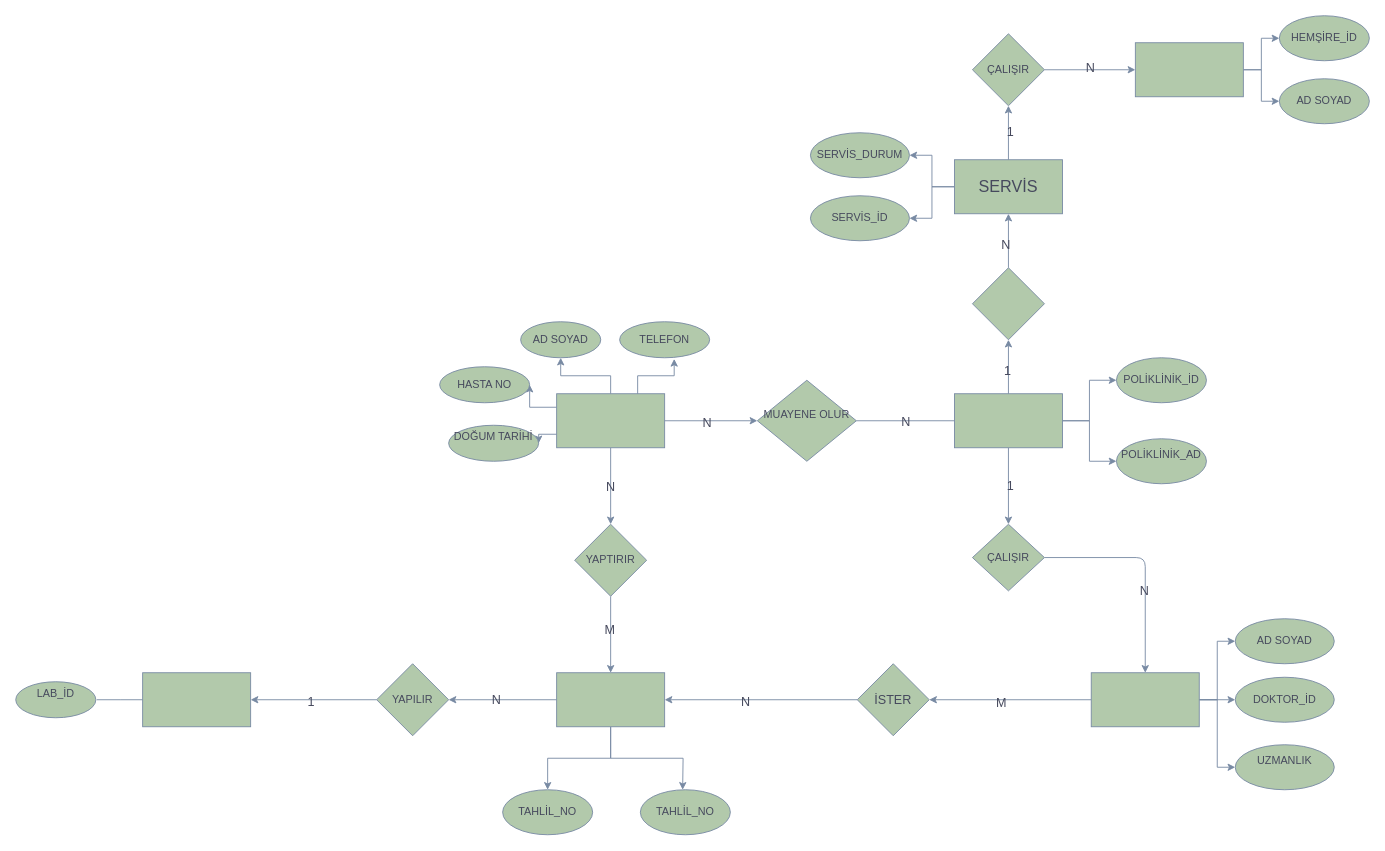
This 1385x851 diagram has some shape labels left out. The shapes that lost their labels are listed below. From the top down, each one's centre as x and y in pixels, then its label:
the point at 1188,69: HEMŞİRE
the point at 1008,303: AİT
the point at 610,420: HASTA
the point at 1008,420: POLİKLİNİK
the point at 196,699: LABORATUVAR
the point at 610,699: TAHLİL
the point at 1144,699: DOKTOR
